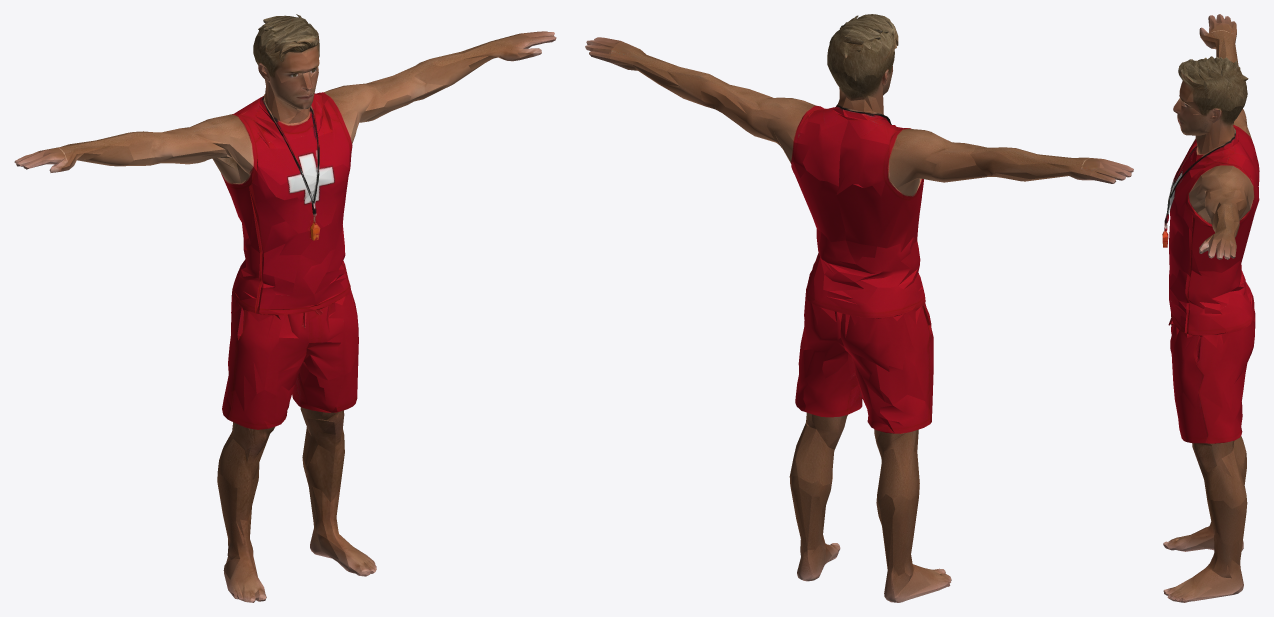
File: image3d.glb
3 renders of one model, left to right at view 1: azimuth 30°, elevation 25°; view 2: azimuth 150°, elevation 25°; view 3: azimuth 270°, elevation 25°, orthographic. The views are drawn at different scales.
Bounding box in the file's own units: 1.9 × 1.86 × 0.3204.
Materials: 1 (1 with a texture image).
